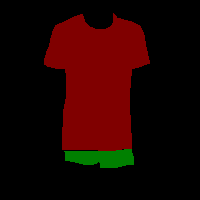abbigliamento: (44, 12, 150, 151)
mutande: (64, 148, 134, 168)
